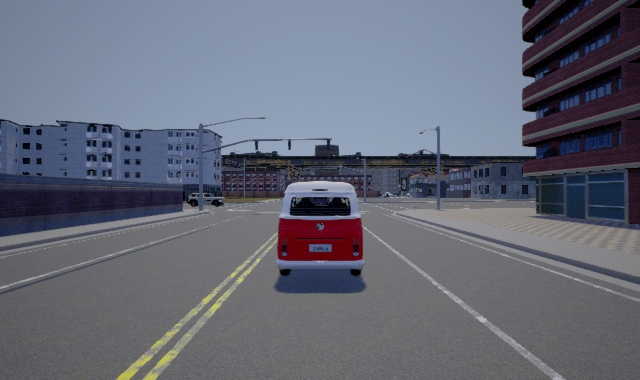vehicle: (276, 181, 365, 276), (187, 191, 225, 207)
